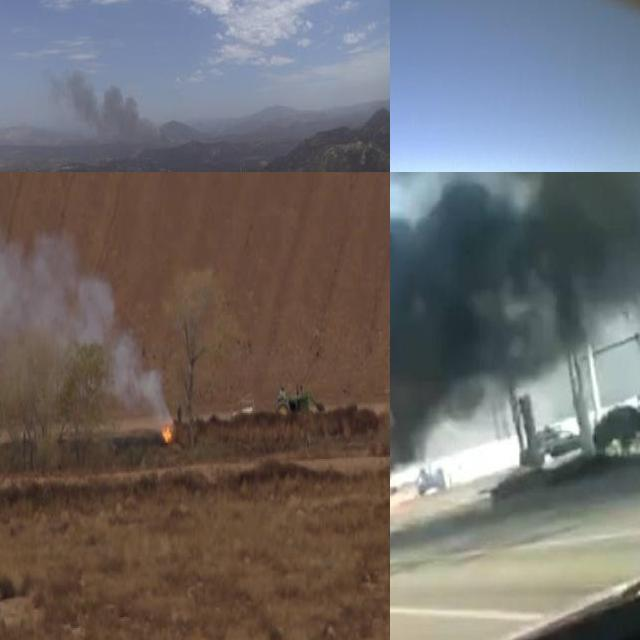fire: (141, 390, 183, 460)
smoke: (390, 172, 640, 476), (0, 172, 171, 421), (42, 62, 175, 166)
